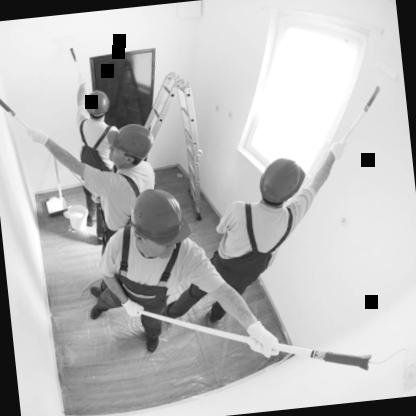helmet: (122, 177, 194, 274), (246, 147, 316, 224), (98, 118, 160, 179), (77, 83, 118, 130)
